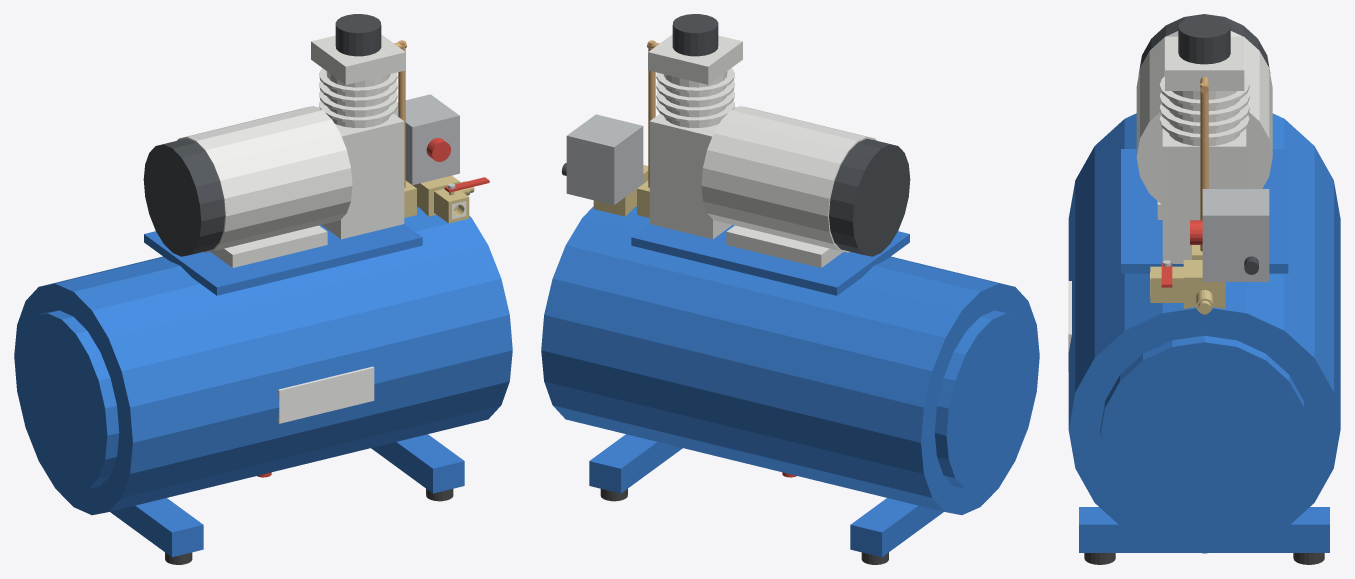
Rendered from compressor-air.glb.
3 views of the same model, side by side, from view 1: azimuth 30°, elevation 25°; view 2: azimuth 150°, elevation 25°; view 3: azimuth 270°, elevation 25° (orthographic). The views are drawn at different scales.
Parts seen in each view (by area): view 1: body, motor; view 2: body, motor; view 3: body, motor.
Part boxes in pixels (box(x1,y1,x2,y2)): body: box(14, 14, 512, 564); motor: box(143, 106, 352, 267); body: box(541, 14, 1039, 564); motor: box(701, 106, 910, 267); body: box(1068, 16, 1340, 564); motor: box(1136, 14, 1272, 219).
Size of what is drawn, in the model's own units: 0.518 by 0.54 by 0.2602.
